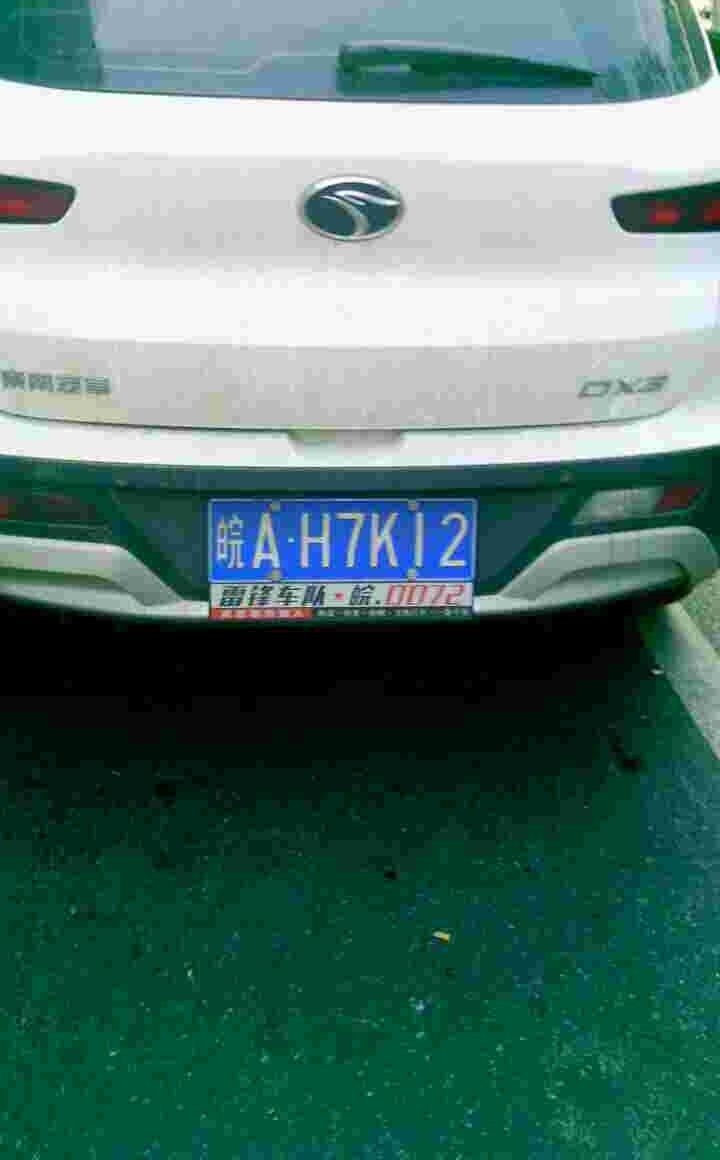license_plate: (197, 497, 464, 594)
